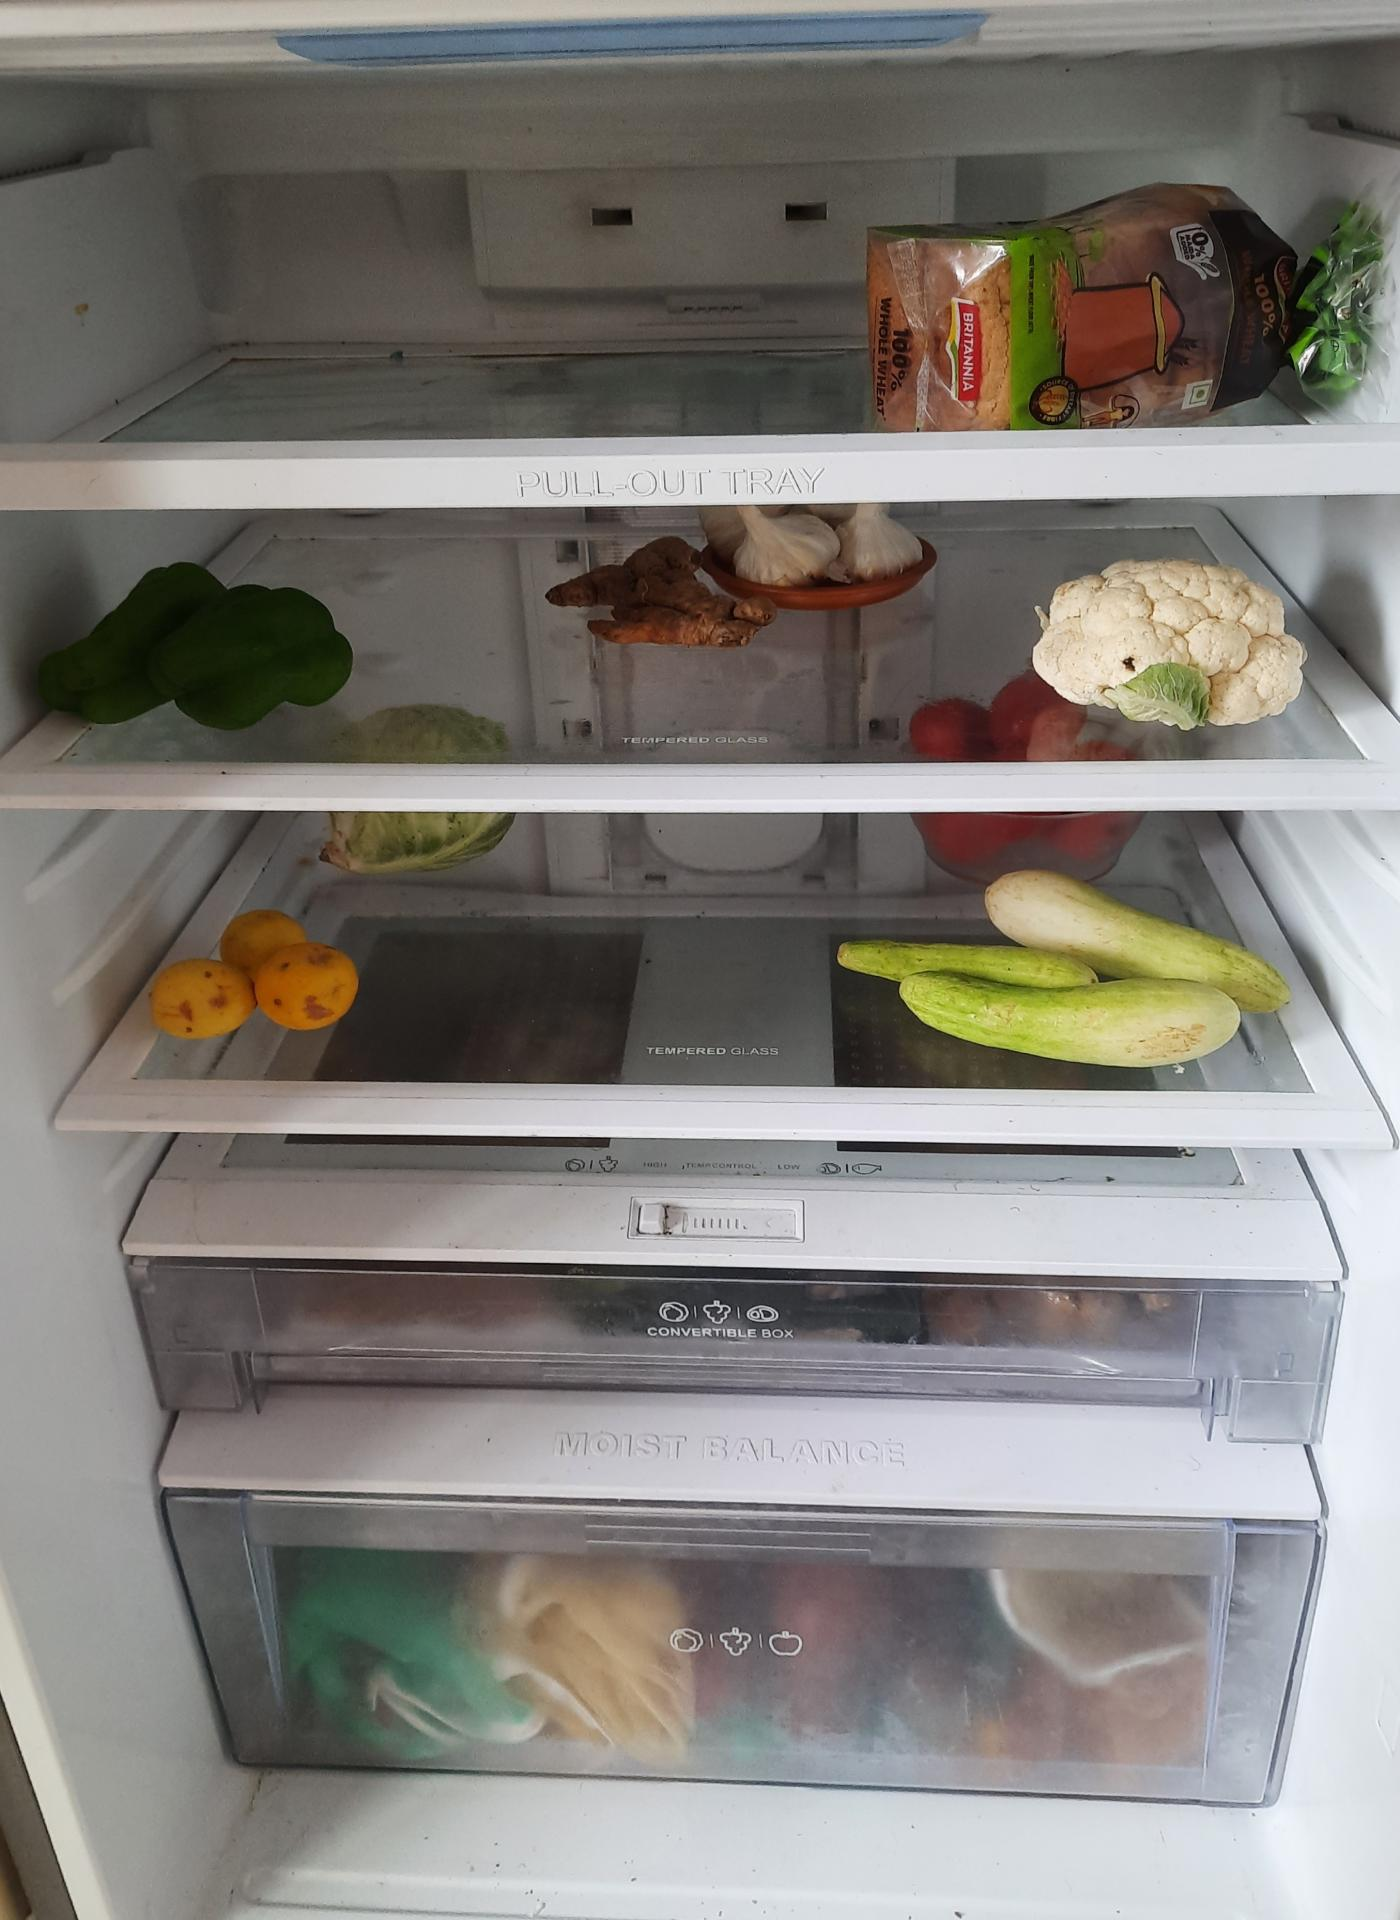bread: (856, 182, 1354, 432)
cabbage: (319, 812, 520, 884), (332, 705, 525, 771)
capsicum: (27, 543, 353, 724)
cauliflower: (1029, 560, 1321, 736)
cucumber: (838, 880, 1294, 1081)
garlic: (708, 501, 927, 590)
ginger: (543, 513, 781, 648)
lemon: (145, 905, 368, 1045)
tomato: (905, 669, 1150, 751), (908, 814, 1150, 882)
